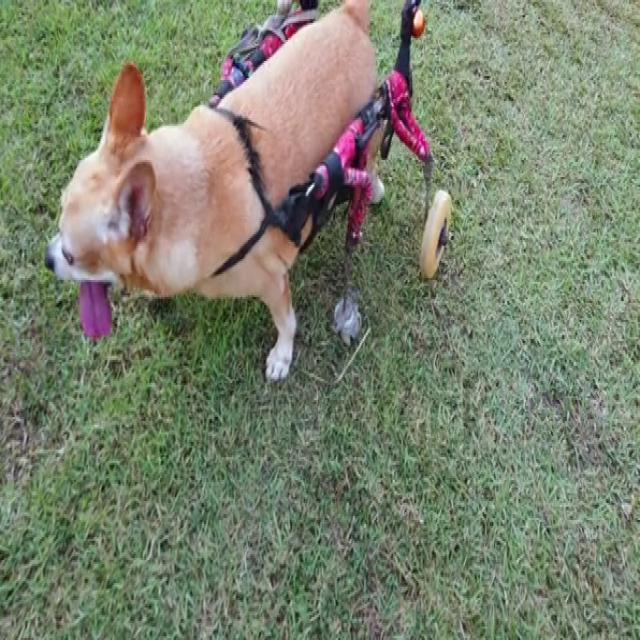injured-animals: (41, 2, 453, 388)
